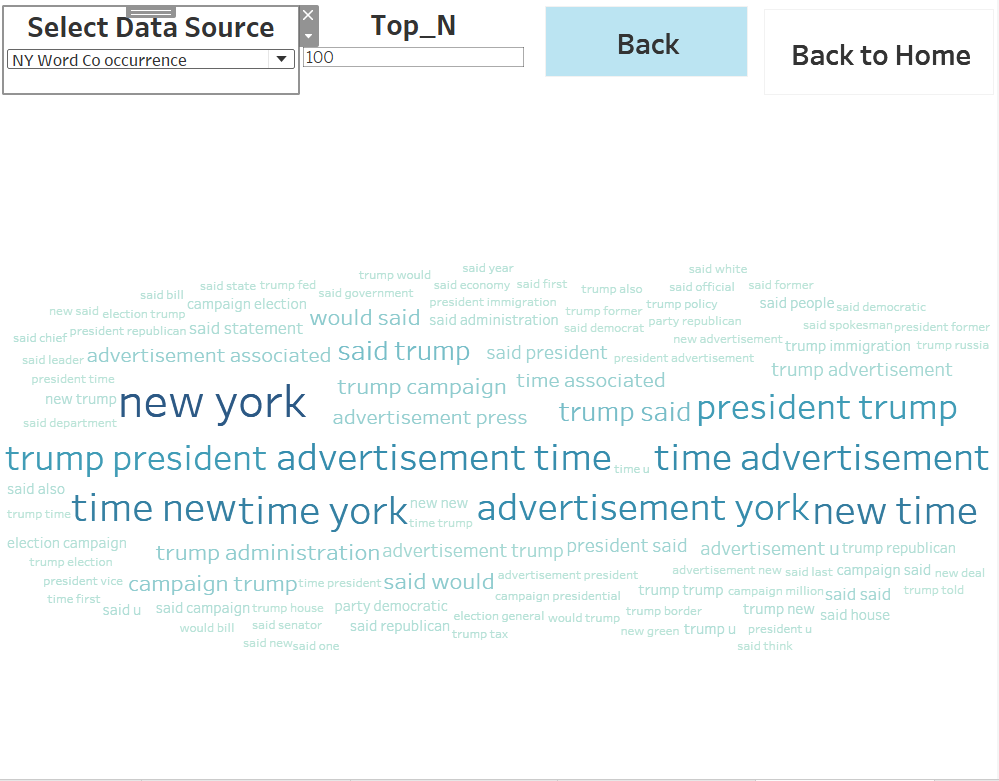

The page's visual inventory and layout, read from the dashboard file:
{"tool":"tableau","page":{"name":"big_wcooc_dash","canvas":[1000,800],"ordinal":3},"visuals":[{"type":"parameter","param":"[Parameters].[Parameter 3]","box":[303,5,227,79]},{"type":"worksheet","title":"Back_1","mark":"Automatic","box":[548,6,203,71]},{"type":"parameter","param":"[Parameters].[Select a View (copy)]","box":[7,7,294,86]},{"type":"worksheet","title":"Back","mark":"Automatic","box":[767,9,230,86]},{"type":"worksheet","title":"big_twitter_co","mark":"Text","box":[7,130,986,643]},{"type":"worksheet","title":"big_cc_co","mark":"Text","box":[9,146,985,623]},{"type":"worksheet","title":"big_ny_co","mark":"Text","box":[6,149,987,624]}]}

Visuals, with their boxes in screenshot pixels (x1, y1, x2, y2), scaled from the page's 1000x800 canvas onto the 999x781 screenshot:
parameter: Rect(303, 5, 529, 82)
"Back_1" worksheet: Rect(547, 6, 750, 75)
parameter: Rect(7, 7, 301, 91)
"Back" worksheet: Rect(766, 9, 996, 93)
"big_twitter_co" worksheet (Text marks): Rect(7, 127, 992, 755)
"big_cc_co" worksheet (Text marks): Rect(9, 143, 993, 751)
"big_ny_co" worksheet (Text marks): Rect(6, 145, 992, 755)
